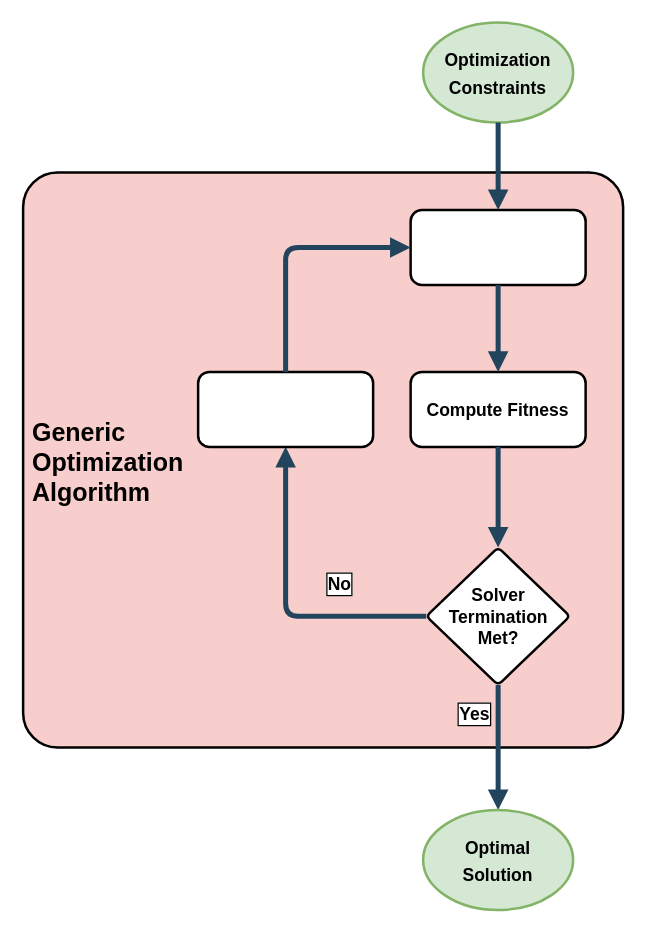
Some shapes in this 645 by 933 pixel diagram are drawn without their labels. Here are the shapes that lost their labels. From the top down, the box of each, then its label:
(409, 208, 586, 286): Generate Population
(196, 370, 374, 448): Variation & Selection
